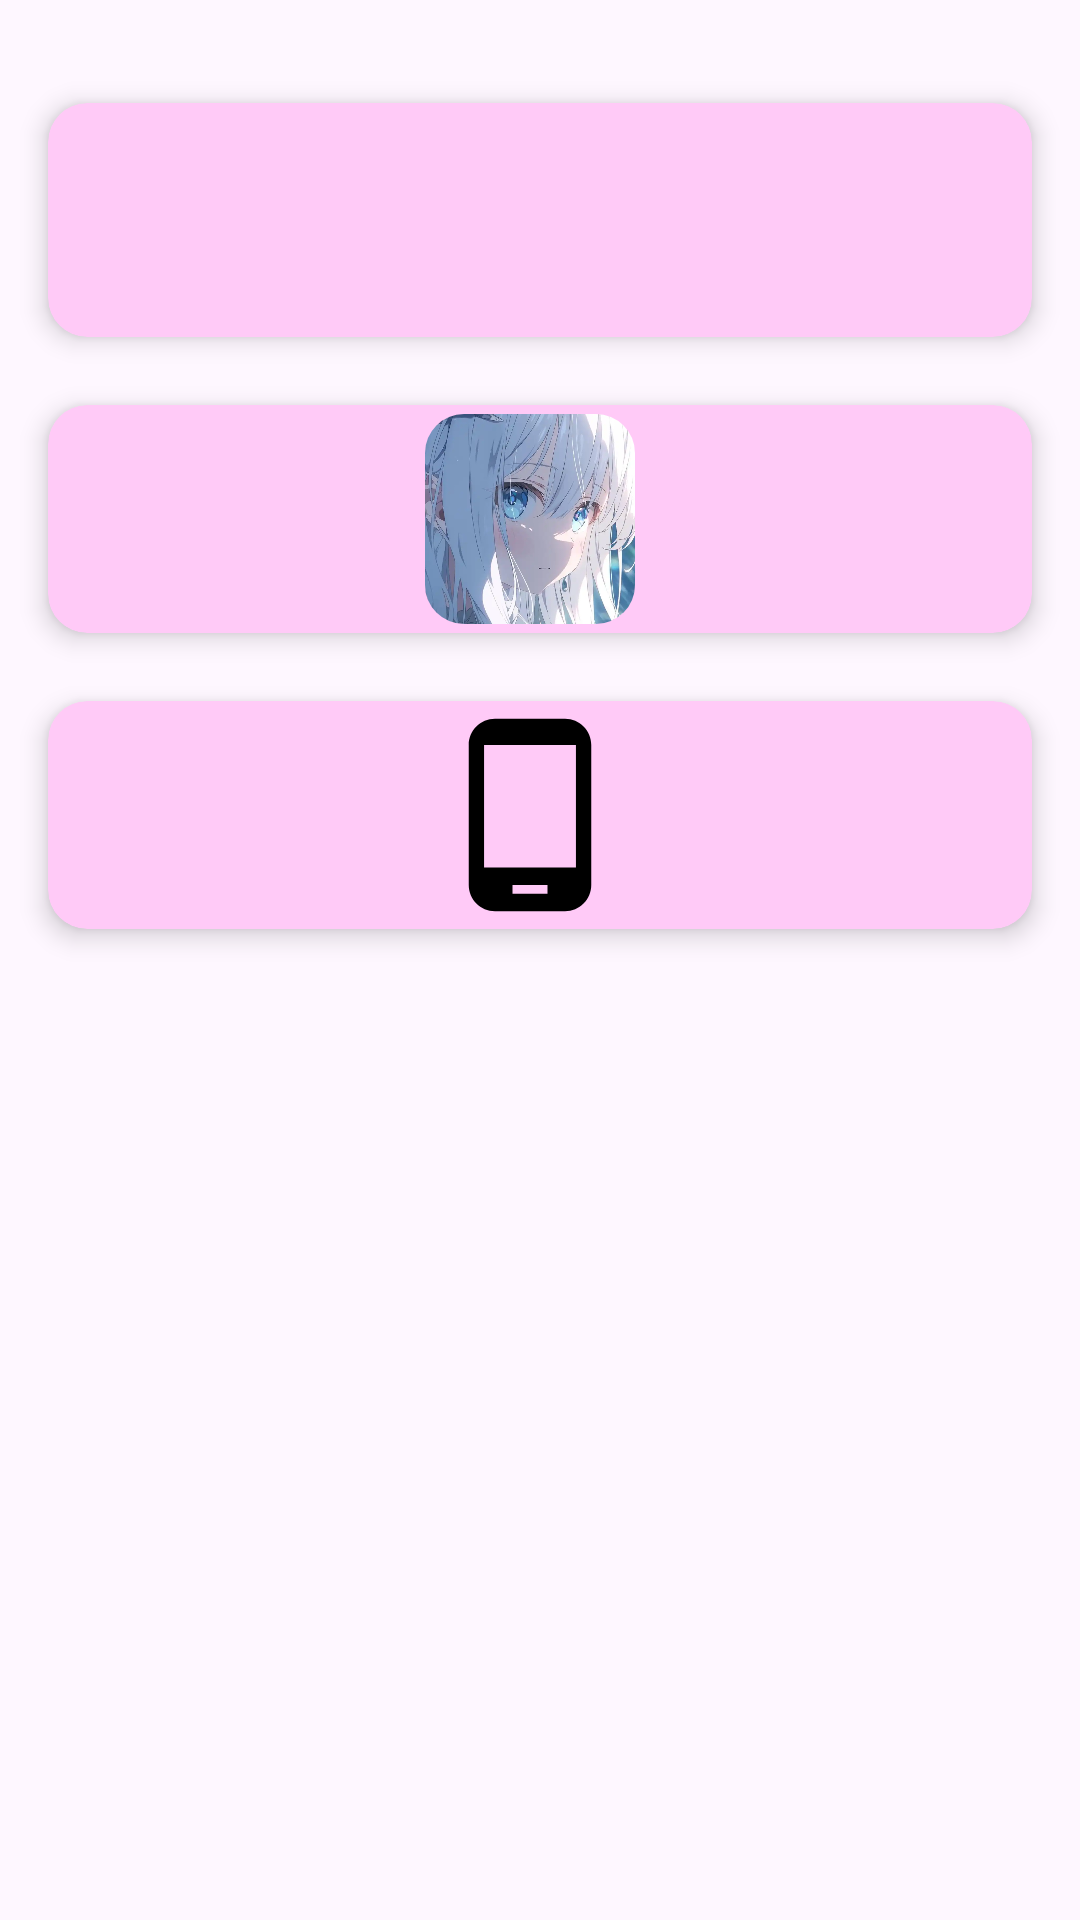

Screen size 1080px x 1920px. Icon name, then its box in pixels as (x1, y1, x2, y2):
xyn iphone: (468, 718, 592, 912)
